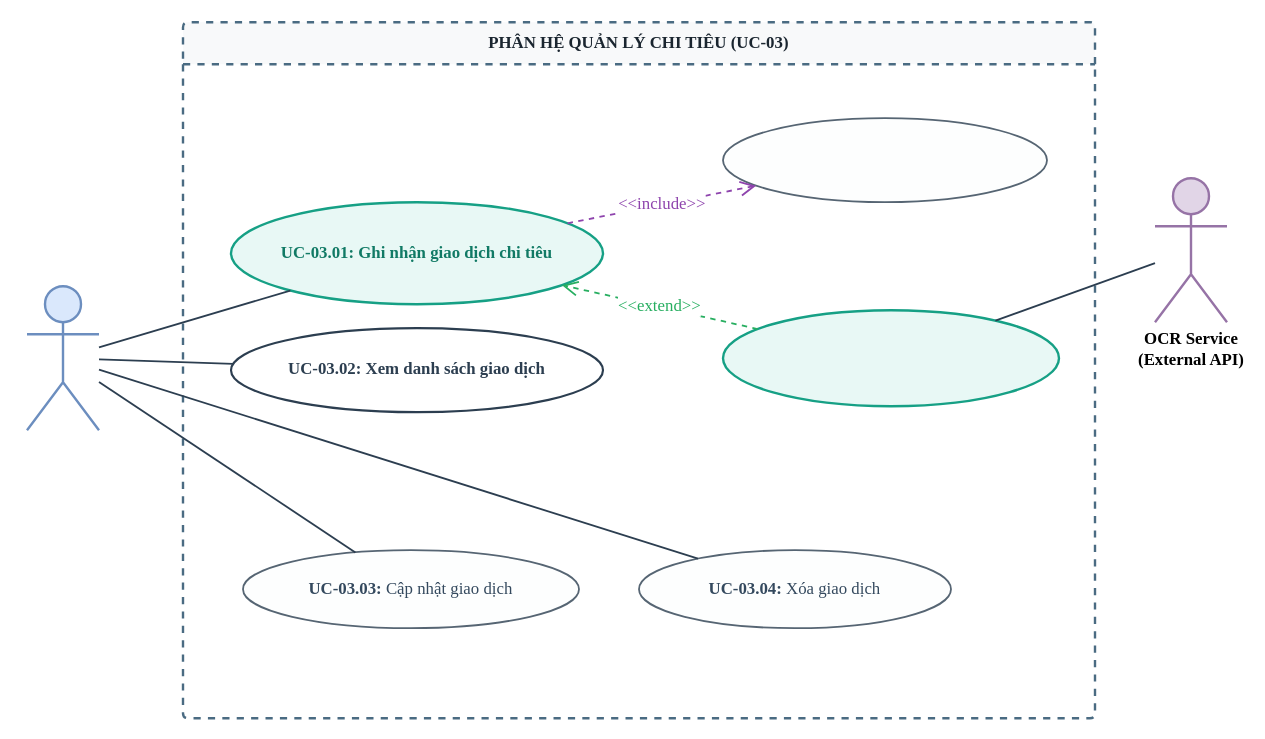
Some shapes in this 1265 by 739 pixel diagram are drawn without their labels. The shapes that lost their labels are listed below. From the top down, each one's centre as x and y in pixels, then its label:
point 884,160: UC-03.05: Phân loại giao dịch chi tiêu
point 62,357: Người dùng (User)
point 890,357: UC-03.06: Nhận dạng thông tin từ hóa đơn (OCR Multimodal Parsing)
